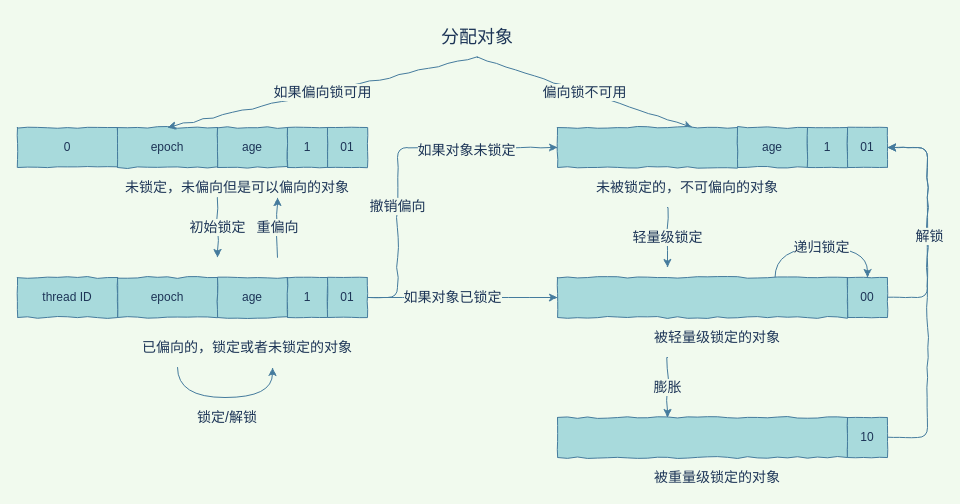
The diagram is 960 pixels wide and 504 high, and some of its shapes have lost their labels. Each missing label, with the centre of its shape:
hash code: point 647,147
point to heavyweight monitor: point 702,437
point to lock recode: point 702,297
